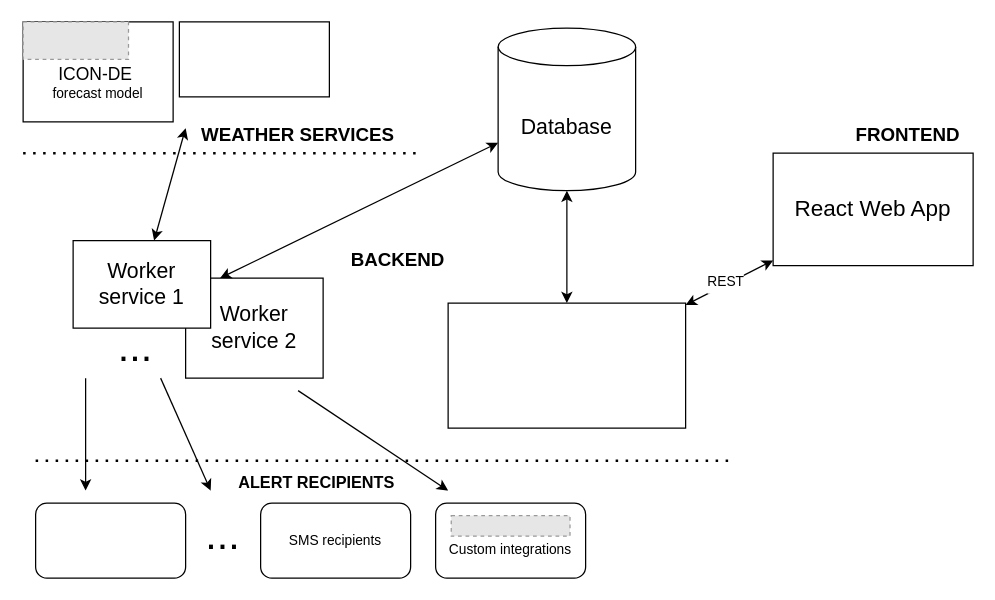
Image size: 995x600. Some labels were removed from this diagram. Grey dashed boxes stand in for pictures. The shapes that lost their labels are listed below. From the top down, each one's centre as x and y in pixels, then its label:
pixel 253 59: other weather data providers
pixel 566 365: Python API
pixel 110 540: Email recipients
